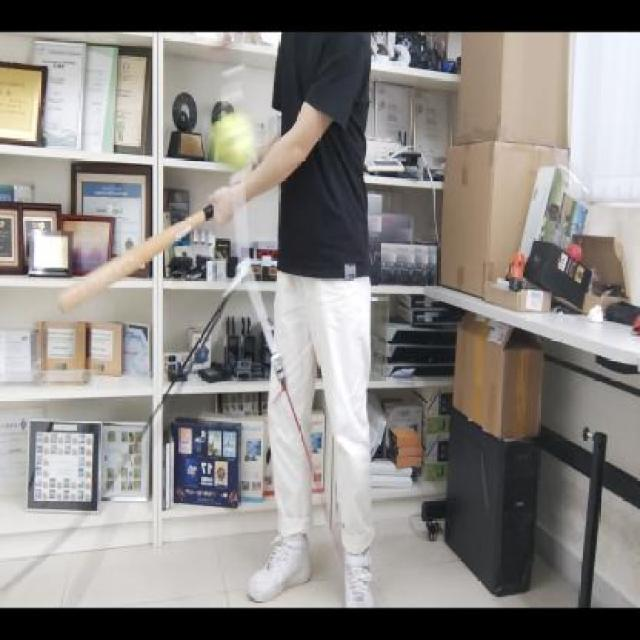baseball: (211, 111, 257, 171)
